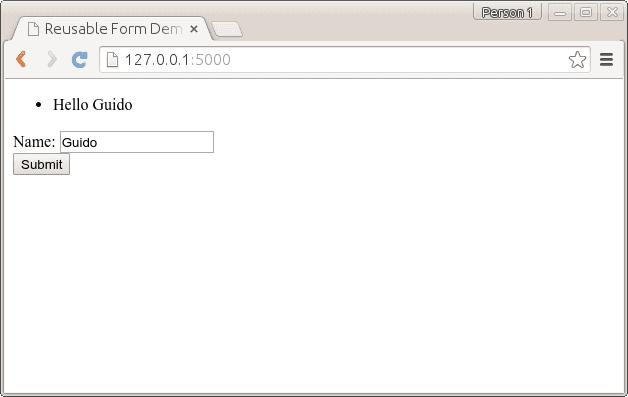button: (10, 151, 71, 177)
textbox: (58, 129, 221, 154)
